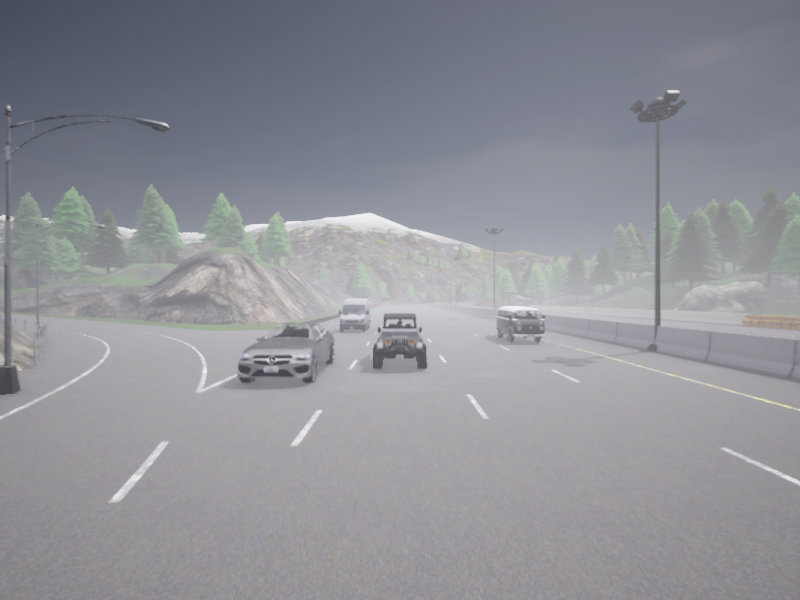vehicle: (237, 322, 335, 383), (372, 313, 427, 368), (496, 306, 545, 342), (338, 298, 370, 332), (449, 300, 454, 303), (485, 298, 488, 299)
